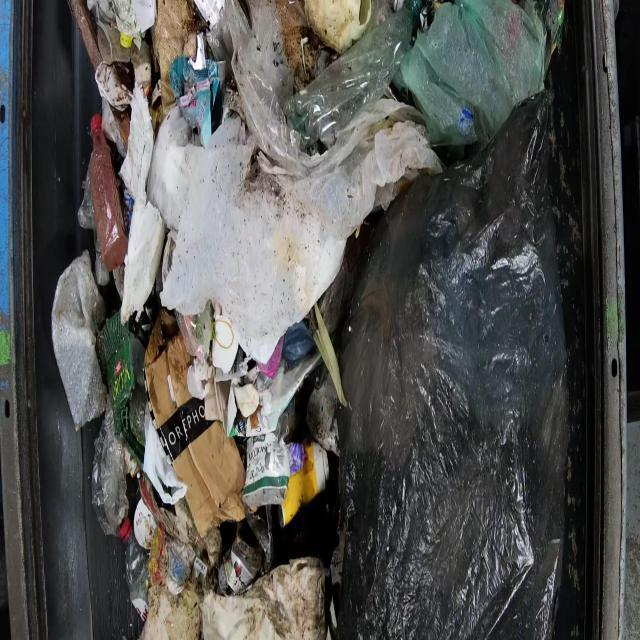other-trash: (55, 0, 570, 638)
